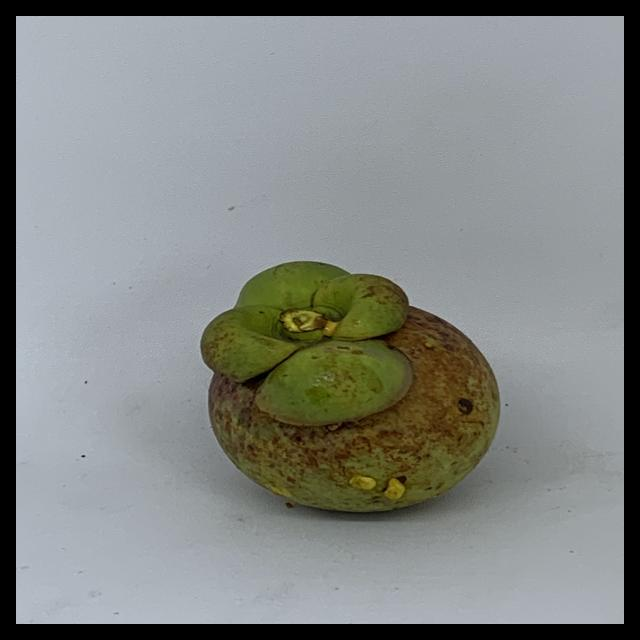mangosteen: (188, 254, 542, 533)
